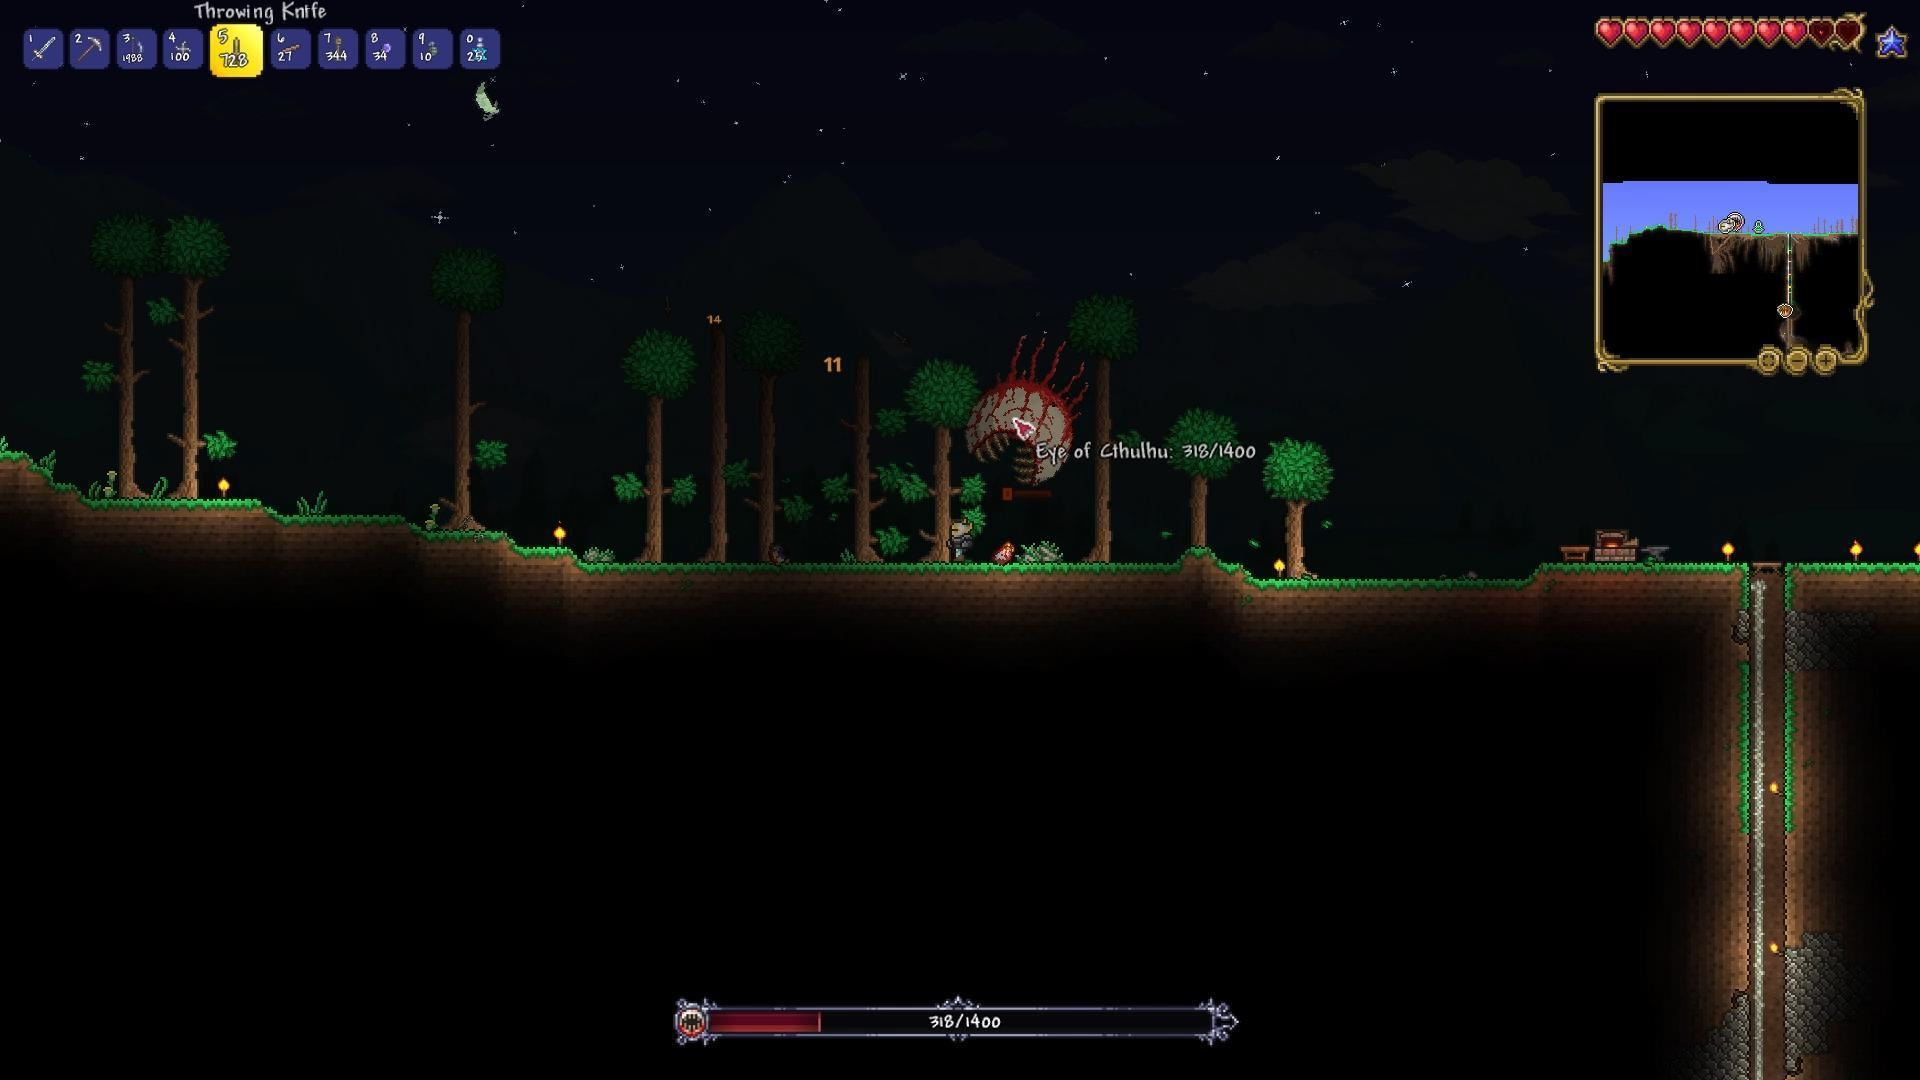eyeC: (961, 336, 1110, 480)
